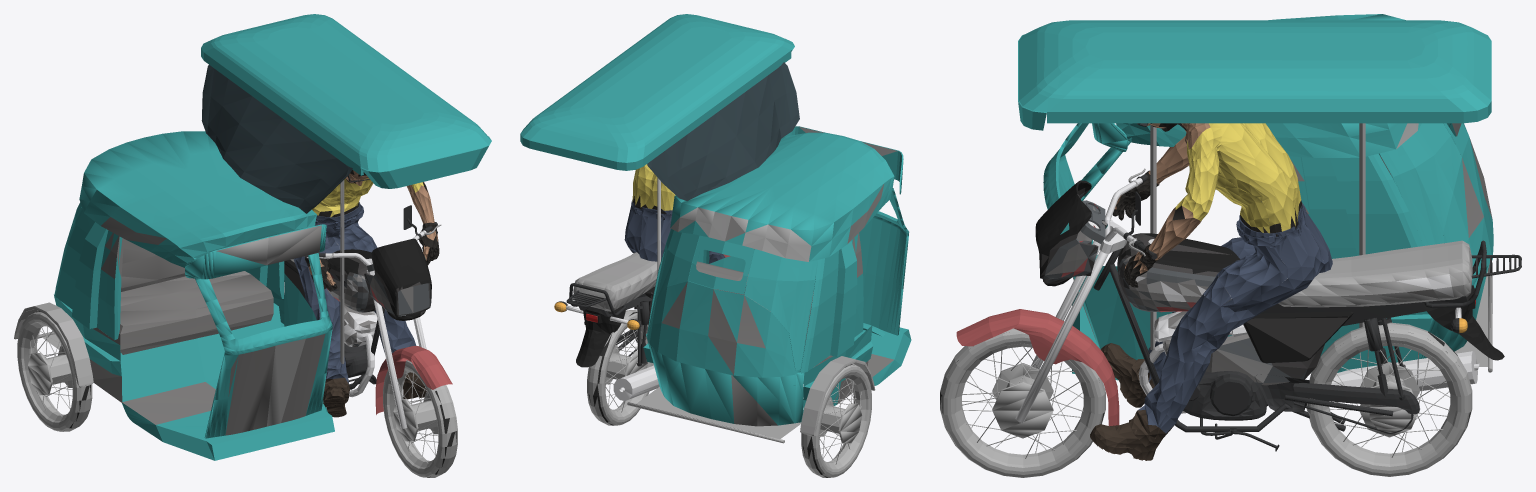
The model's file is tricycle.glb.
3 views of the same model, side by side, from view 1: azimuth 30°, elevation 25°; view 2: azimuth 150°, elevation 25°; view 3: azimuth 270°, elevation 25° (orthographic). The views are drawn at different scales.
Parts seen in each view (by area): view 1: body, rider, wheel_front, wheel_side; view 2: body, wheel_side, wheel_rear, rider; view 3: body, rider, wheel_front, wheel_rear.
Part boxes in pixels (left/top/right/bottom): body: left=14, top=14, right=491, bottom=460; rider: left=293, top=169, right=439, bottom=417; wheel_front: left=383, top=360, right=457, bottom=477; wheel_side: left=17, top=310, right=92, bottom=431; body: left=520, top=14, right=911, bottom=443; wheel_side: left=801, top=363, right=871, bottom=477; wheel_rear: left=587, top=310, right=653, bottom=425; rider: left=624, top=164, right=725, bottom=263; body: left=956, top=14, right=1521, bottom=451; rider: left=1090, top=123, right=1332, bottom=460; wheel_front: left=940, top=328, right=1105, bottom=477; wheel_rear: left=1306, top=322, right=1472, bottom=476.
Bounding box in the file's own units: 1.88 × 1.85 × 2.23.
